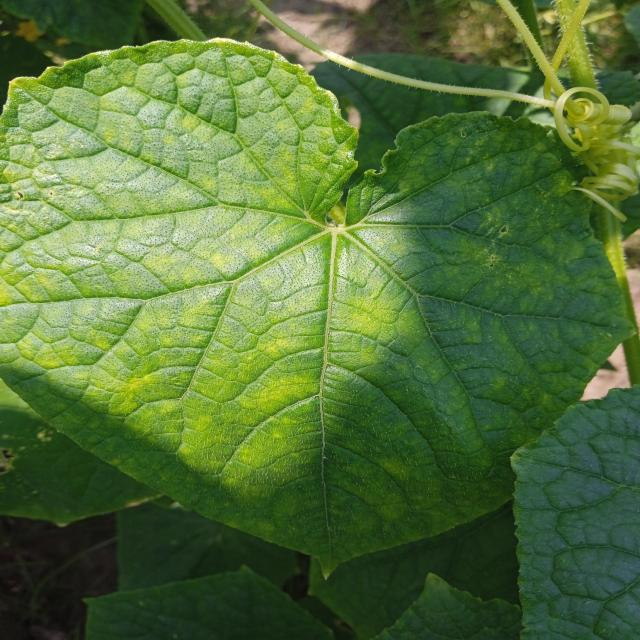cucumber_healthy: (0, 32, 640, 586), (503, 364, 640, 640)
